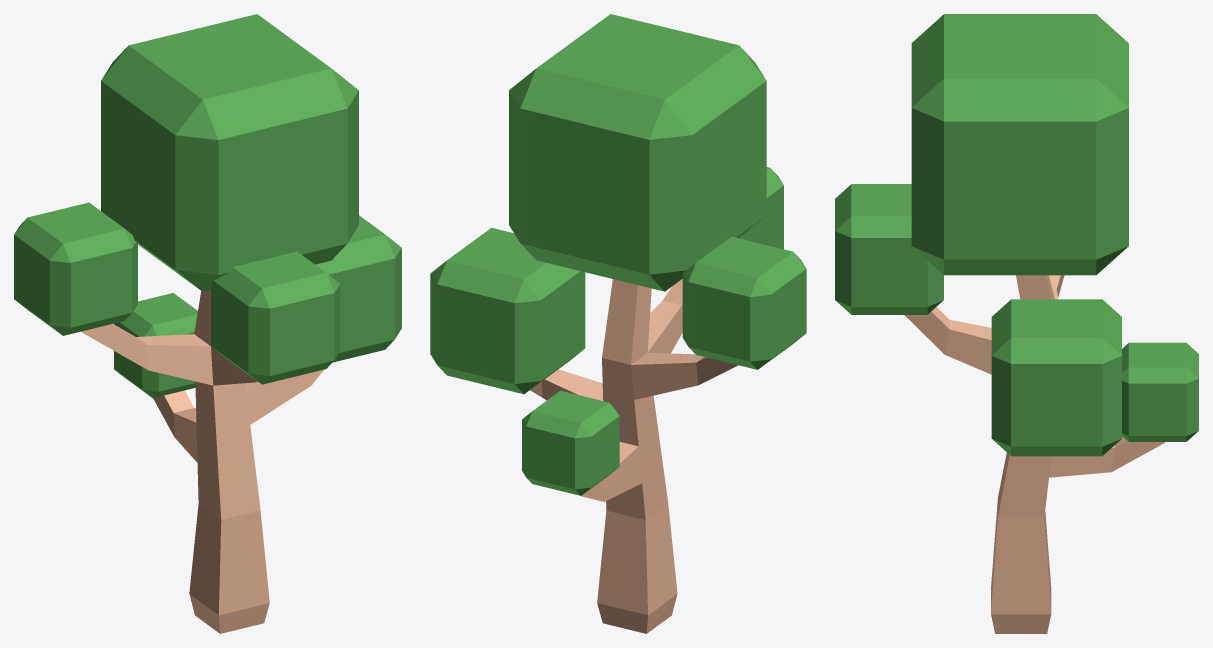
The model's file is tree_detailed.glb.
The picture shows the model from 3 angles, left to right: view 1: azimuth 30°, elevation 25°; view 2: azimuth 150°, elevation 25°; view 3: azimuth 270°, elevation 25°; orthographic projection. The views are drawn at different scales.
Visible parts, largest first — view 1: tree_detailed; view 2: tree_detailed; view 3: tree_detailed.
Boxes of the visible parts, left/top/right/bottom form: tree_detailed: left=14, top=14, right=401, bottom=633; tree_detailed: left=430, top=14, right=806, bottom=633; tree_detailed: left=835, top=14, right=1198, bottom=633.
Size of the model in its own units: 0.8472 by 1.33 by 0.7616.
